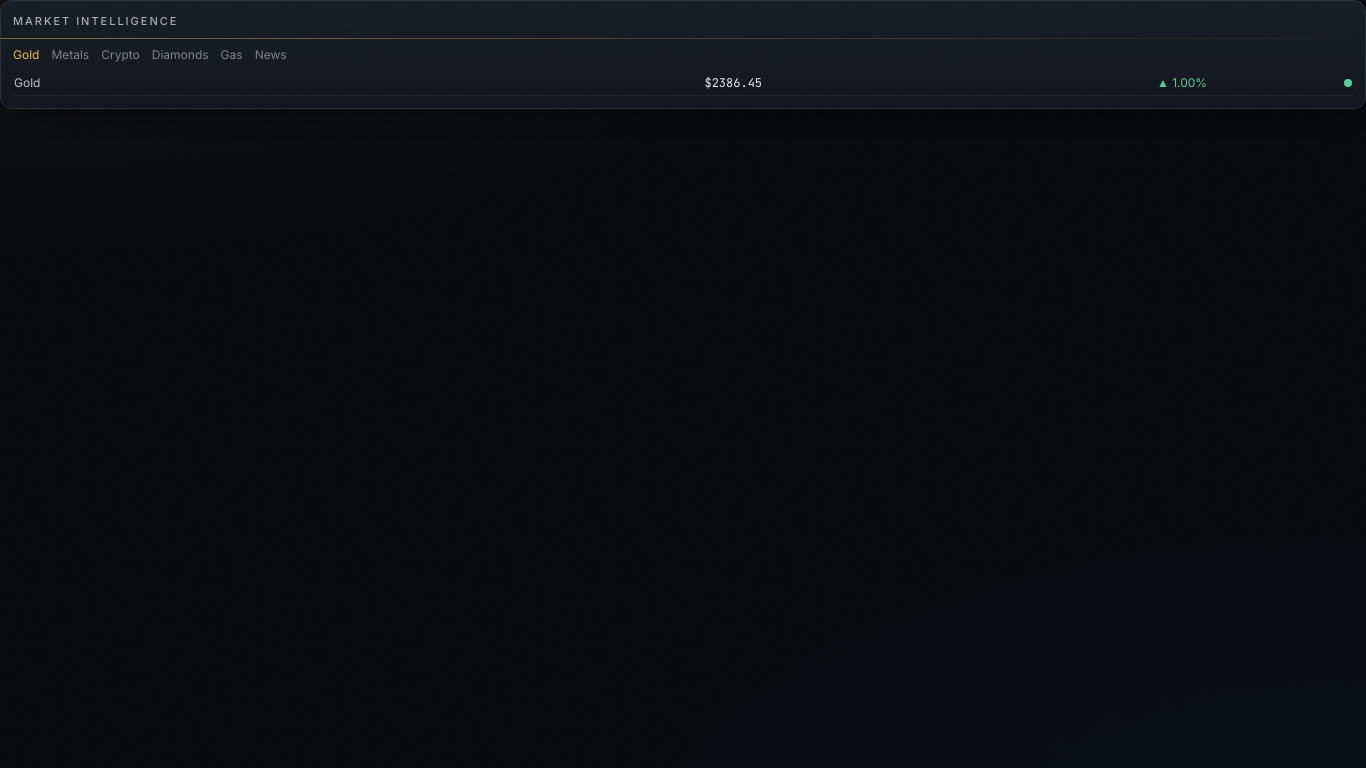
Test: MarketIntelligencePanel › labels the Diamonds tab as not yet wired
Click the button "Diamonds": (180,54) [152, 46, 209, 62]
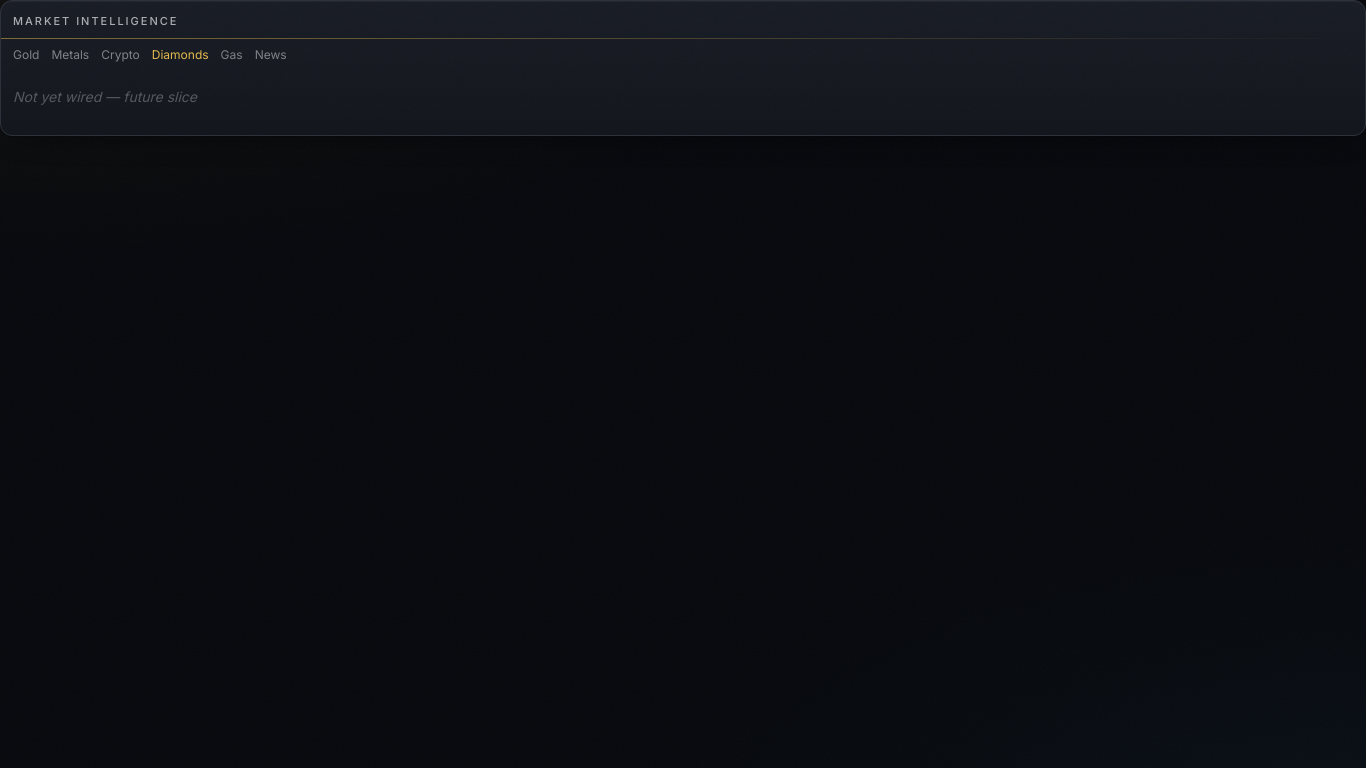
Check: the text "Not yet wired — future slice" is shown, box [13, 88, 197, 104]
